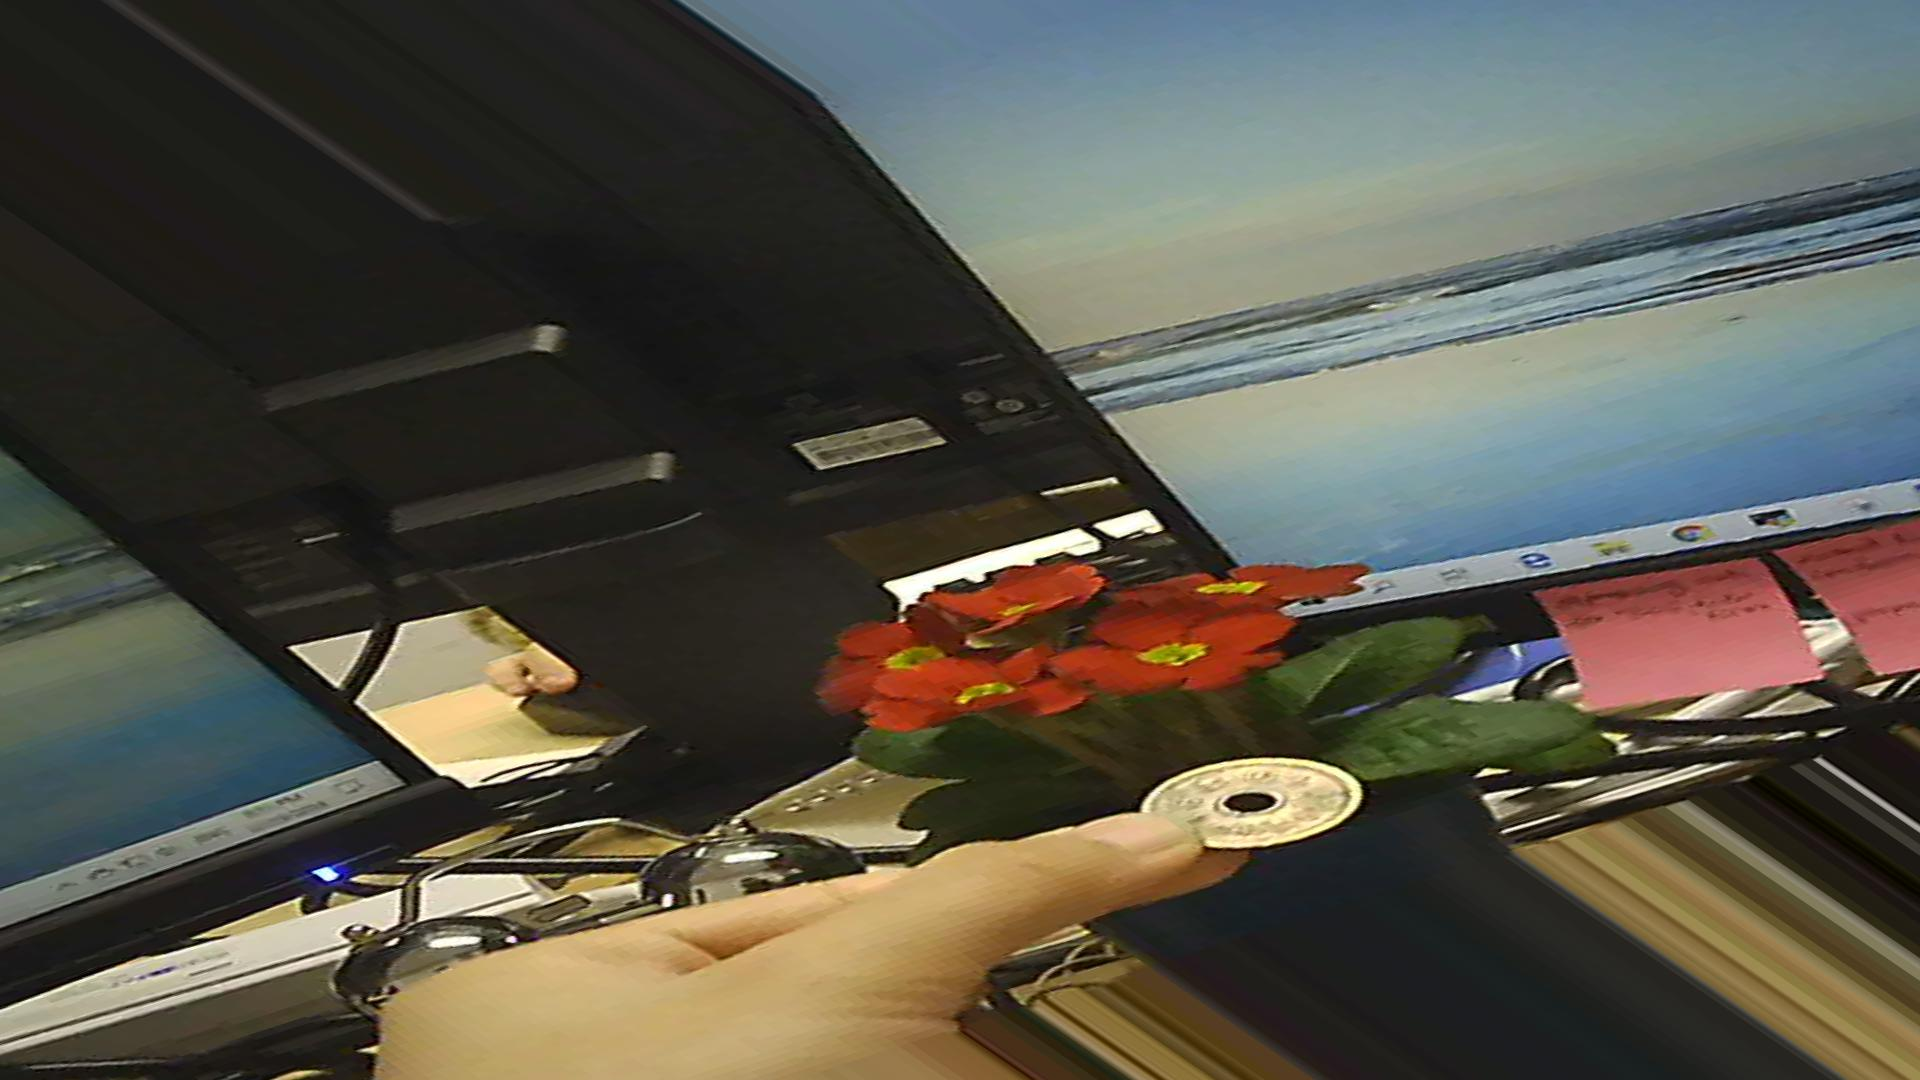5 Yen: (1126, 738, 1362, 862)
